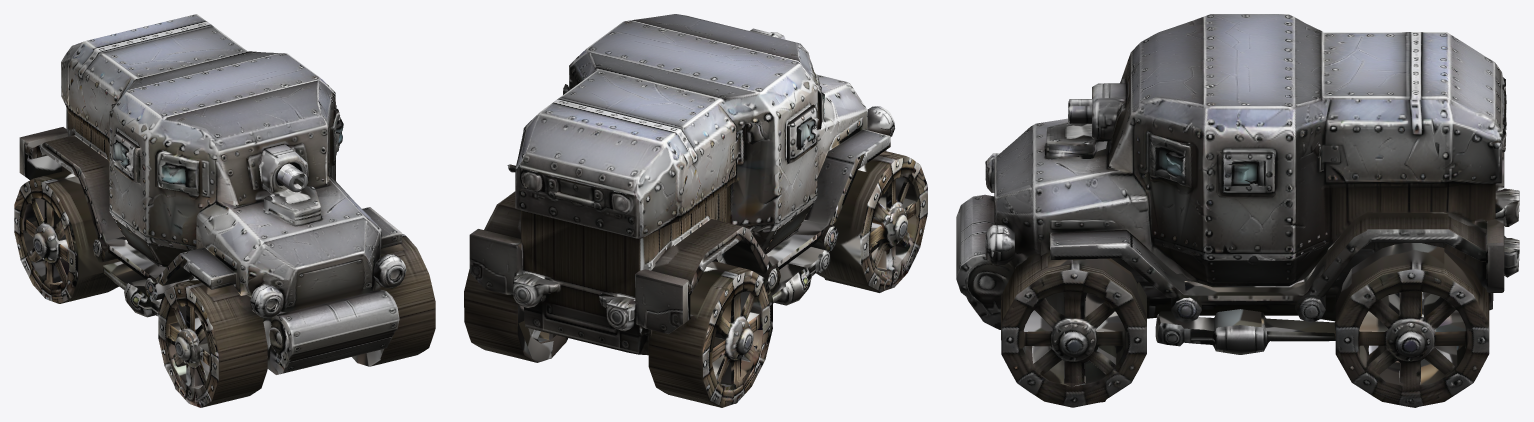
The model's file is car.glb.
3 views of the same model, side by side, from view 1: azimuth 30°, elevation 25°; view 2: azimuth 150°, elevation 25°; view 3: azimuth 270°, elevation 25° (orthographic). The views are drawn at different scales.
Visible parts, largest first — view 1: Armored Car; view 2: Armored Car; view 3: Armored Car.
Boxes of the visible parts, x1,y1,x2,y2 form: Armored Car: (14, 14, 435, 407); Armored Car: (464, 14, 927, 407); Armored Car: (956, 14, 1519, 407).
Bounding box in the file's own units: 1.95 × 1.89 × 3.39.
1 material, 1 textured.
